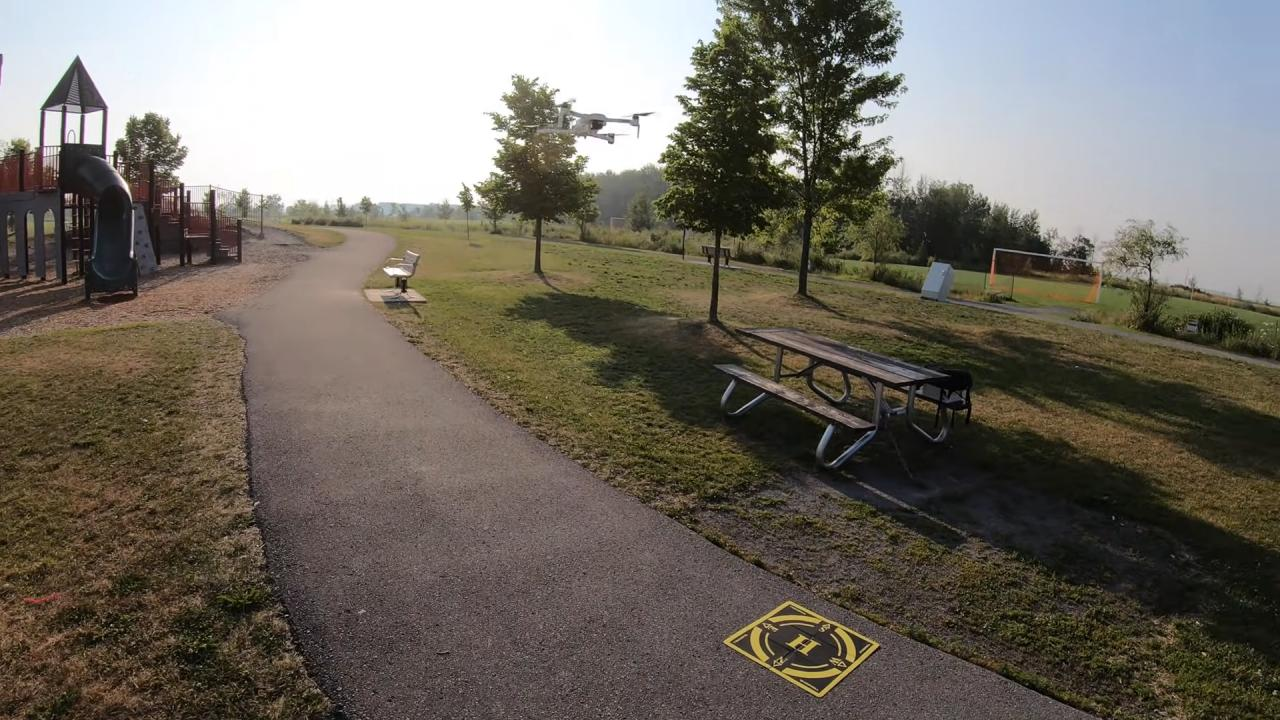Drone: (511, 91, 664, 154)
